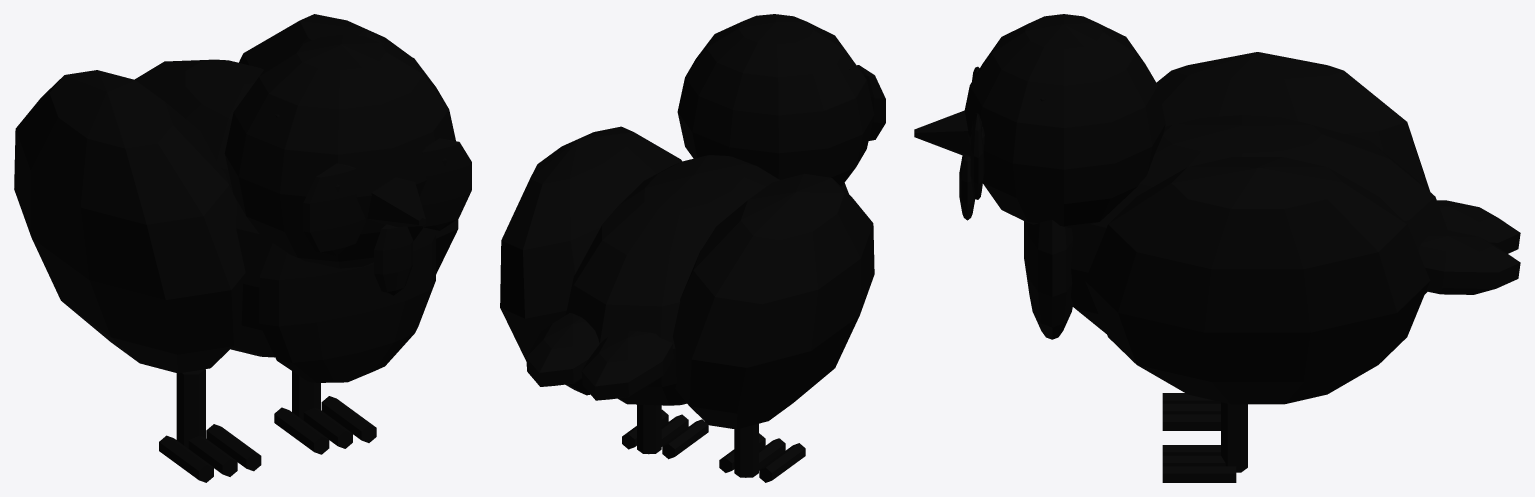
File: perched.glb
3 renders of one model, left to right at view 1: azimuth 30°, elevation 25°; view 2: azimuth 150°, elevation 25°; view 3: azimuth 270°, elevation 25°, orthographic. The views are drawn at different scales.
Parts seen in each view (by area): view 1: Wing_L, Head, YellowBreast, Body, Cheek_L, Cheek_R, Wing_R, BlackBib, Beak, Leg_L, Toe_R_0, Toe_L_0 (+5 smaller); view 2: Wing_L, Head, Body, Wing_R, Tail_L, Tail_R, Leg_L, Leg_R, Cheek_L, Toe_L_0, Toe_R_0, Toe_R_1 (+1 smaller); view 3: Wing_R, Head, Body, Wing_L, Tail_R, YellowBreast, Tail_L, Leg_R, Beak, Toe_R_2, Cheek_R, Toe_L_2 (+4 smaller).
Boxes of the visible parts, box(x1,y1,x2,y2) form: Wing_L: box(14, 70, 245, 373); Head: box(224, 34, 455, 268); YellowBreast: box(259, 227, 435, 382); Body: box(134, 59, 274, 357); Cheek_L: box(303, 163, 365, 255); Cheek_R: box(419, 138, 471, 230); Wing_R: box(239, 14, 458, 274); BlackBib: box(374, 224, 413, 295); Beak: box(367, 177, 425, 226); Leg_L: box(176, 369, 205, 448); Toe_R_0: box(274, 407, 329, 454); Toe_L_0: box(159, 435, 213, 482); Wing_L: box(673, 173, 874, 429); Head: box(677, 14, 874, 186); Body: box(565, 155, 779, 405); Wing_R: box(500, 126, 681, 395); Tail_L: box(581, 331, 673, 400); Tail_R: box(526, 313, 599, 386); Leg_L: box(734, 423, 758, 477); Leg_R: box(637, 404, 661, 453); Cheek_L: box(857, 65, 885, 140); Toe_L_0: box(759, 443, 805, 482); Toe_R_0: box(662, 419, 708, 459); Toe_R_1: box(648, 414, 688, 454); Wing_R: box(1085, 157, 1430, 404); Head: box(964, 14, 1165, 228); Body: box(1070, 115, 1447, 333); Wing_L: box(1156, 52, 1430, 191); Tail_R: box(1418, 230, 1520, 294); YellowBreast: box(1024, 219, 1072, 339); Tail_L: box(1437, 200, 1520, 253); Leg_R: box(1221, 402, 1247, 472); Beak: box(914, 110, 970, 157); Toe_R_2: box(1162, 466, 1236, 482); Cheek_R: box(970, 113, 984, 199); Toe_L_2: box(1162, 414, 1220, 430).
Size of the model in its own units: 0.0913 by 0.1106 by 0.1439.
Materials: 10 (10 with a texture image).
